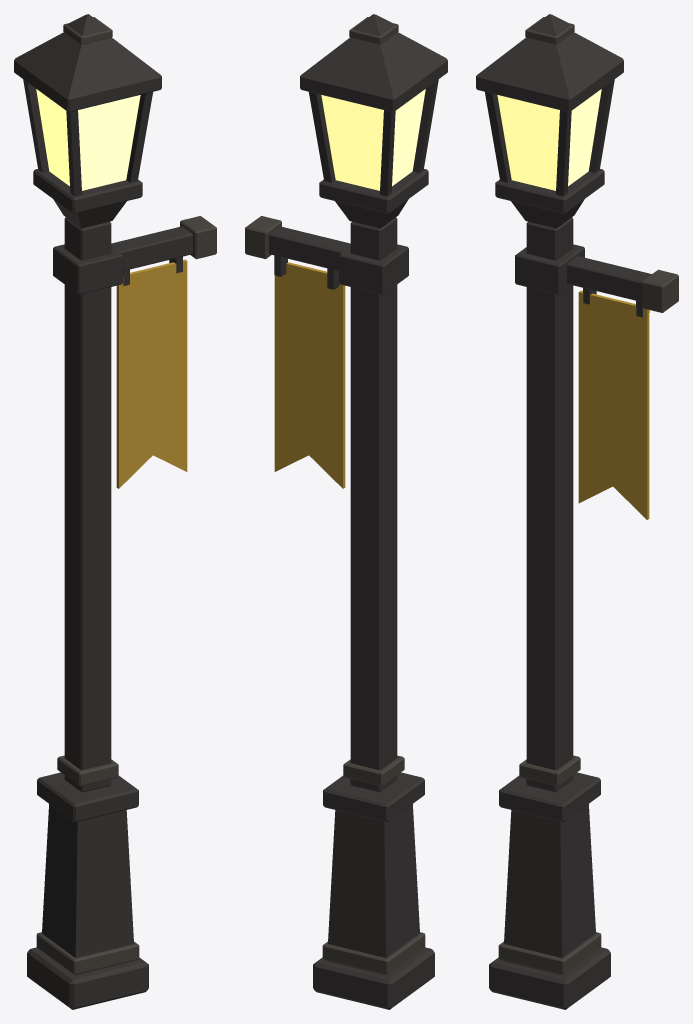
File: lamp_post.glb
3 renders of one model, left to right at view 1: azimuth 30°, elevation 25°; view 2: azimuth 150°, elevation 25°; view 3: azimuth 330°, elevation 25°, orthographic.
Parts seen in each view (by area): view 1: body, light; view 2: body, light; view 3: body, light.
Boxes of the visible parts, x1,y1,x2,y2 form: body: [14, 14, 216, 1009]; light: [36, 89, 140, 190]; body: [245, 14, 447, 1009]; light: [321, 89, 425, 190]; body: [476, 14, 678, 1009]; light: [497, 89, 601, 190].
Size of the model in its own units: 0.765 by 4.2 by 0.43.
